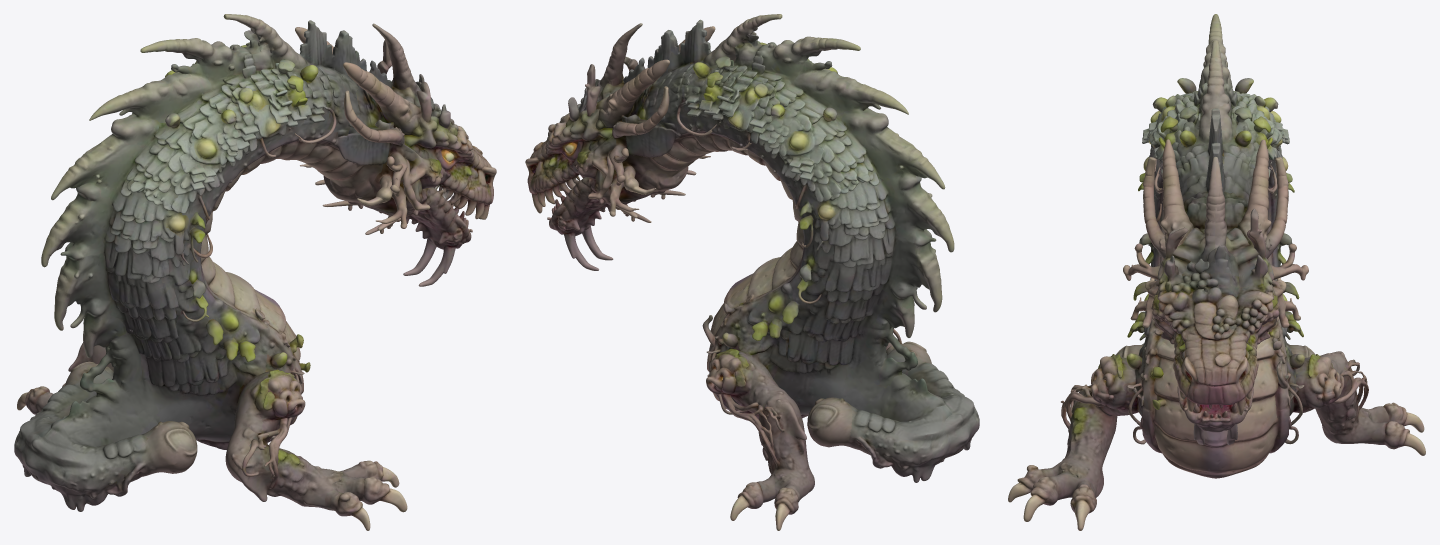
File: batak_ejderi.glb
3 views of the same model, side by side, from view 1: azimuth 30°, elevation 25°; view 2: azimuth 150°, elevation 25°; view 3: azimuth 270°, elevation 25° (orthographic). The views are drawn at different scales.
Visible parts, largest first — view 1: tripo_node_8b570dce-5395-41be-8070-1fc71193b515; view 2: tripo_node_8b570dce-5395-41be-8070-1fc71193b515; view 3: tripo_node_8b570dce-5395-41be-8070-1fc71193b515.
Boxes of the visible parts, x1,y1,x2,y2 form: tripo_node_8b570dce-5395-41be-8070-1fc71193b515: [14, 14, 496, 530]; tripo_node_8b570dce-5395-41be-8070-1fc71193b515: [525, 14, 979, 530]; tripo_node_8b570dce-5395-41be-8070-1fc71193b515: [1008, 14, 1425, 530].
Size of the model in its own units: 1 by 0.9339 by 0.7974.
1 material, 1 textured.
